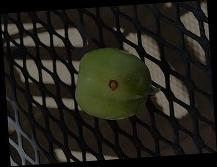rotten apple: (75, 48, 152, 122)
